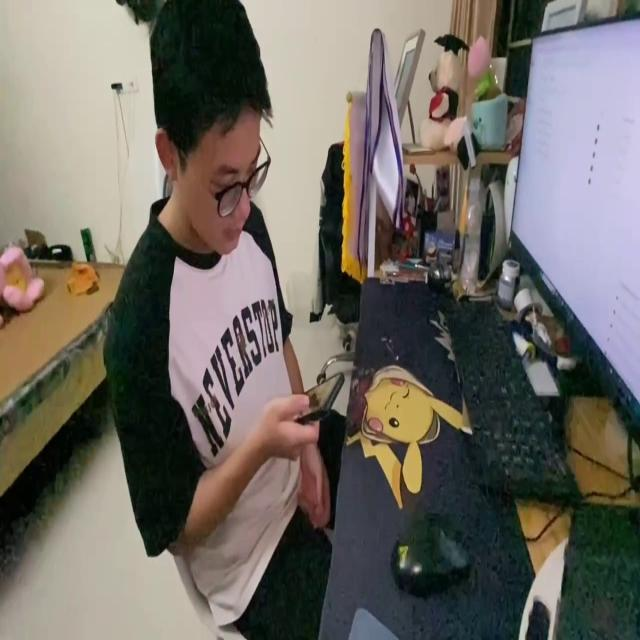laptop: (506, 17, 640, 453)
phone: (290, 368, 348, 421)
student: (101, 6, 334, 640)
